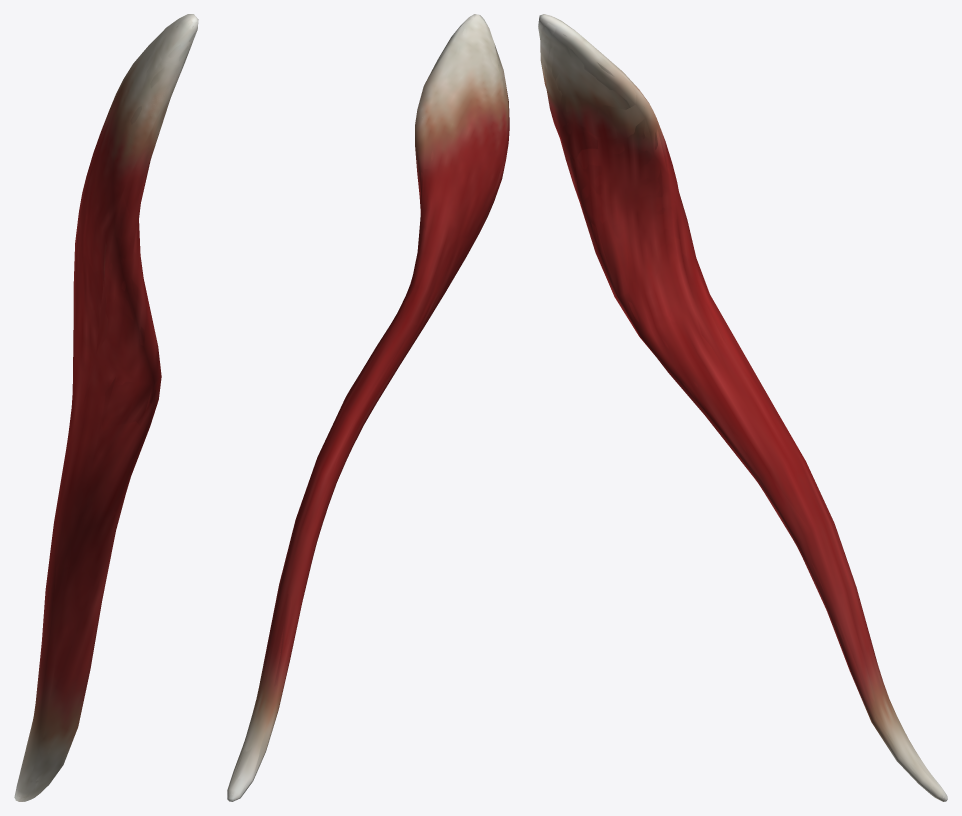
The model's file is R Sternocephalicus.fbx.
3 renders of one model, left to right at view 1: azimuth 30°, elevation 25°; view 2: azimuth 150°, elevation 25°; view 3: azimuth 270°, elevation 25°, orthographic. The views are drawn at different scales.
Visible parts, largest first — view 1: R Sternocephalicus, R Sternocephalicus high, R Sternocephalicus low; view 2: R Sternocephalicus, R Sternocephalicus low, R Sternocephalicus high; view 3: R Sternocephalicus, R Sternocephalicus high, R Sternocephalicus low.
Boxes of the visible parts, box(x1,y1,x2,y2) form: R Sternocephalicus: box(14, 14, 198, 801); R Sternocephalicus high: box(19, 24, 195, 797); R Sternocephalicus low: box(17, 14, 197, 791); R Sternocephalicus: box(227, 14, 509, 801); R Sternocephalicus low: box(228, 14, 509, 800); R Sternocephalicus high: box(228, 23, 503, 800); R Sternocephalicus: box(538, 14, 947, 801); R Sternocephalicus high: box(539, 18, 944, 797); R Sternocephalicus low: box(539, 14, 942, 798).
Size of the model in its own units: 1.91 by 10.67 by 5.28.
